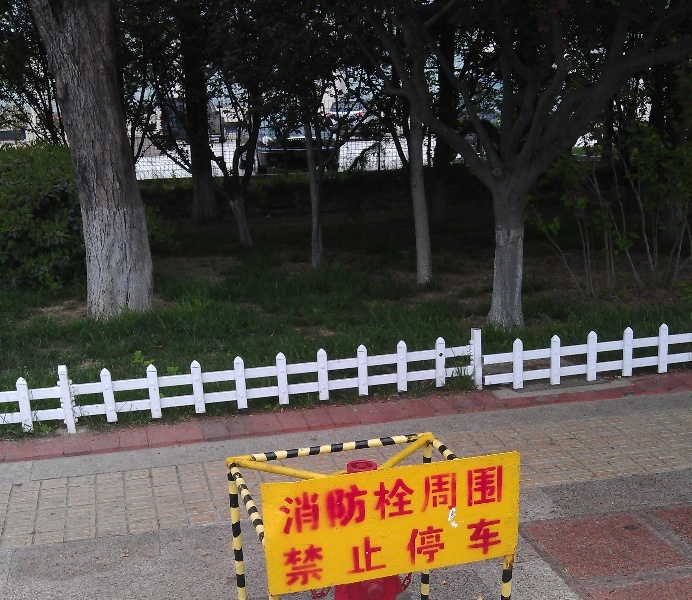text: (289, 514, 304, 589), (305, 514, 320, 589), (321, 514, 336, 589), (337, 514, 352, 589), (353, 514, 368, 589), (369, 514, 384, 589), (385, 514, 400, 589), (401, 514, 416, 589), (417, 514, 432, 589), (433, 514, 448, 589), (449, 514, 464, 589), (465, 514, 480, 589), (481, 514, 496, 589), (289, 462, 304, 536), (305, 462, 320, 536), (321, 462, 336, 536), (337, 462, 352, 536), (353, 462, 368, 536), (369, 462, 384, 536), (385, 462, 400, 536), (401, 462, 416, 536), (417, 462, 432, 536), (433, 462, 448, 536), (449, 462, 464, 536), (465, 462, 480, 536), (481, 462, 496, 536), (277, 462, 288, 536), (497, 462, 506, 536), (282, 514, 288, 589), (497, 514, 501, 589)
